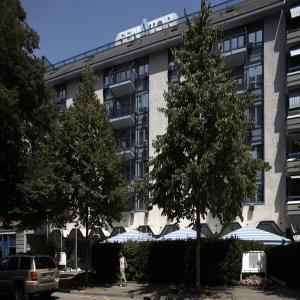Vehicle-registration-plate: (46, 274, 52, 279)
